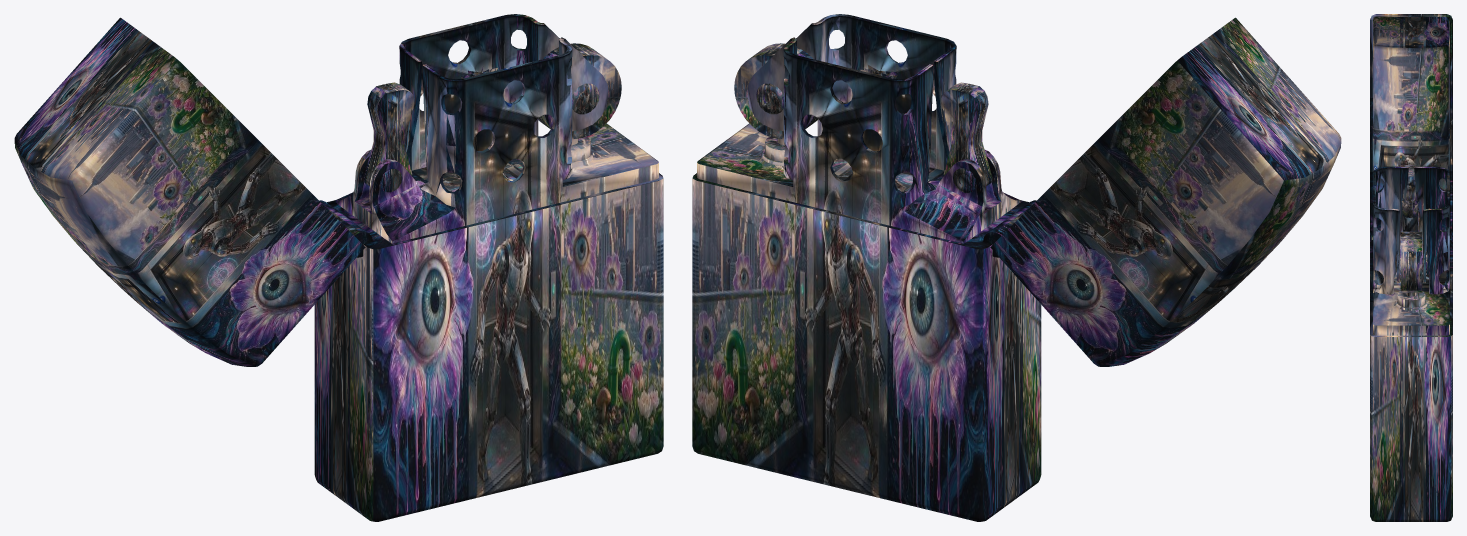
File: ph_vintage_lighter.glb
3 renders of one model, left to right at view 1: azimuth 30°, elevation 25°; view 2: azimuth 150°, elevation 25°; view 3: azimuth 270°, elevation 25°, orthographic. The views are drawn at different scales.
Visible parts, largest first — view 1: A; view 2: A; view 3: A.
Part boxes in pixels (bbox=[...]): A: bbox=[14, 14, 663, 521]; A: bbox=[692, 14, 1341, 521]; A: bbox=[1370, 14, 1452, 521].
Size of the model in its own units: 2 by 1.63 by 0.3516.
Materials: 5 (5 with a texture image).
